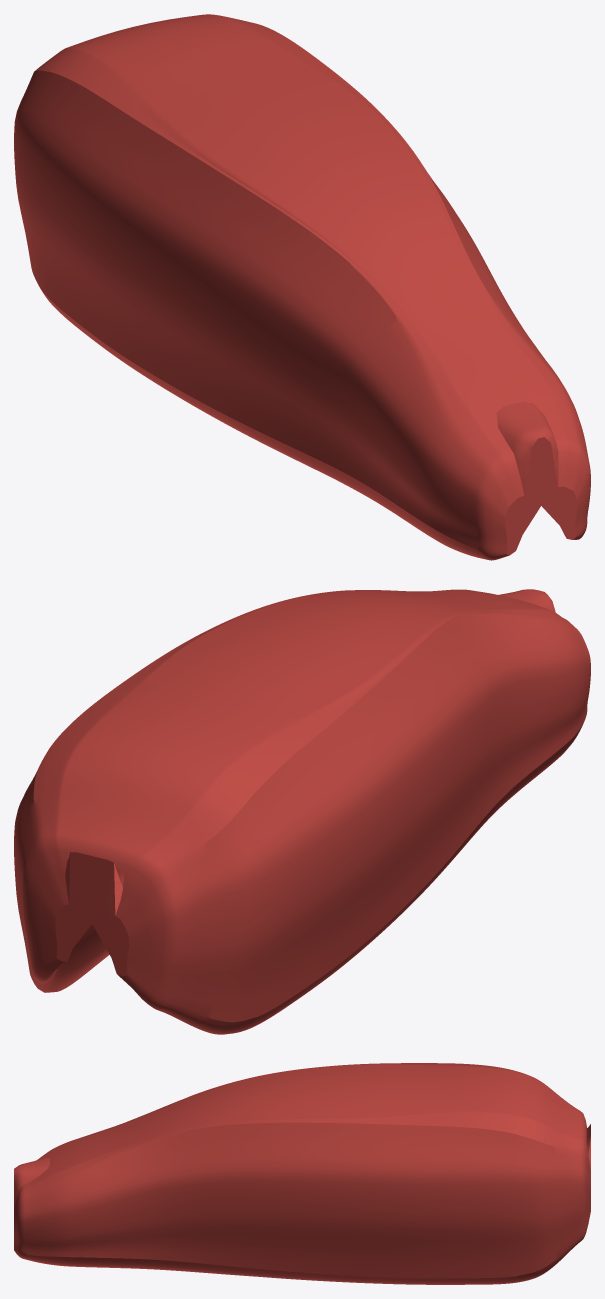
File: cruiser_1.glb
The picture shows the model from 3 angles, top to bottom: view 1: azimuth 30°, elevation 25°; view 2: azimuth 150°, elevation 25°; view 3: azimuth 270°, elevation 25°; orthographic projection. The views are drawn at different scales.
Parts seen in each view (by area): view 1: lod0; view 2: lod0; view 3: lod0.
Part boxes in pixels (x1,y1,x2,y2): lod0: (14, 14, 590, 560); lod0: (14, 589, 590, 1034); lod0: (14, 1063, 590, 1284).
Size of what is drawn, in the model's own units: 0.3687 by 0.3434 by 1.06.
